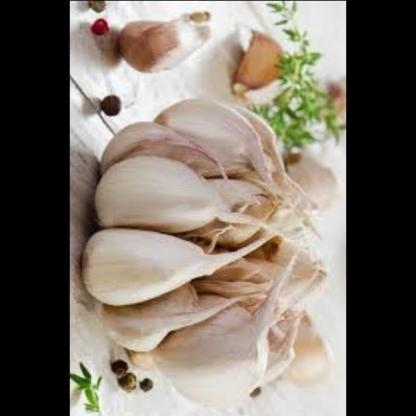garlic: (89, 89, 334, 414), (106, 5, 218, 78), (231, 22, 308, 104), (287, 132, 347, 214)
